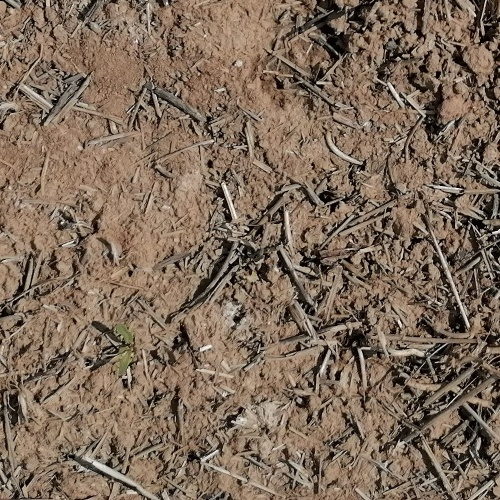beet: (116, 324, 134, 378)
